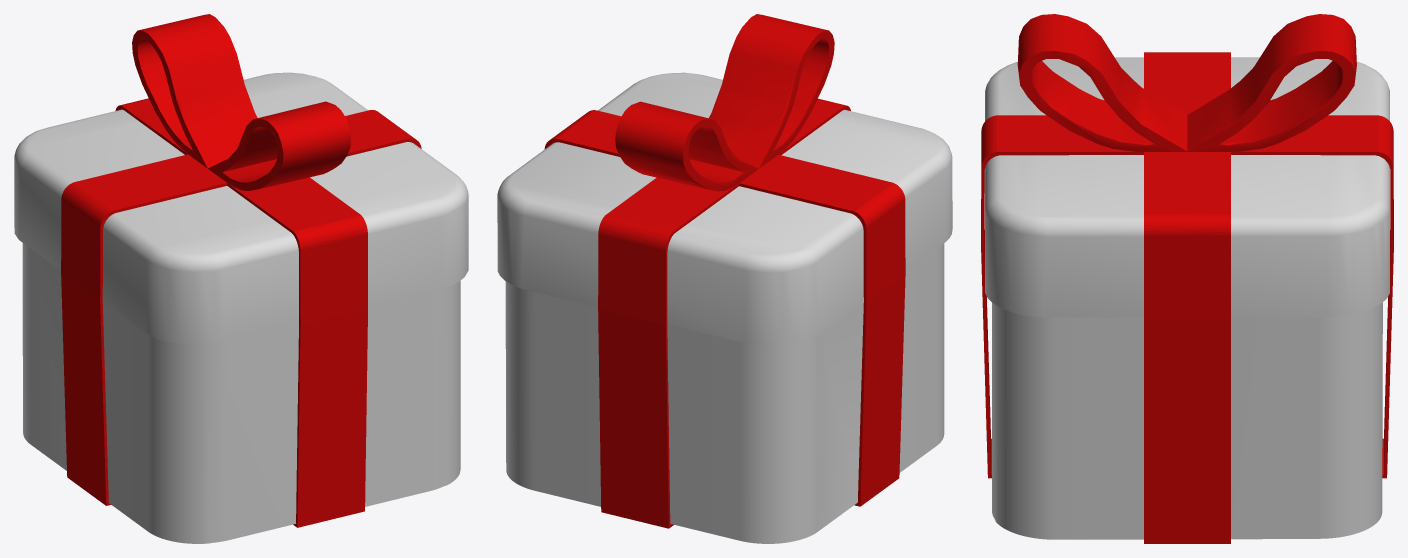
The model's file is Gift.glb.
3 renders of one model, left to right at view 1: azimuth 30°, elevation 25°; view 2: azimuth 150°, elevation 25°; view 3: azimuth 270°, elevation 25°, orthographic. The views are drawn at different scales.
Visible parts, largest first — view 1: Gift; view 2: Gift; view 3: Gift.
Boxes of the visible parts, box(x1,y1,x2,y2) form: Gift: box(14, 14, 468, 543); Gift: box(497, 14, 952, 543); Gift: box(981, 14, 1393, 543).
Bounding box in the file's own units: 1.16 × 1.33 × 1.16.
